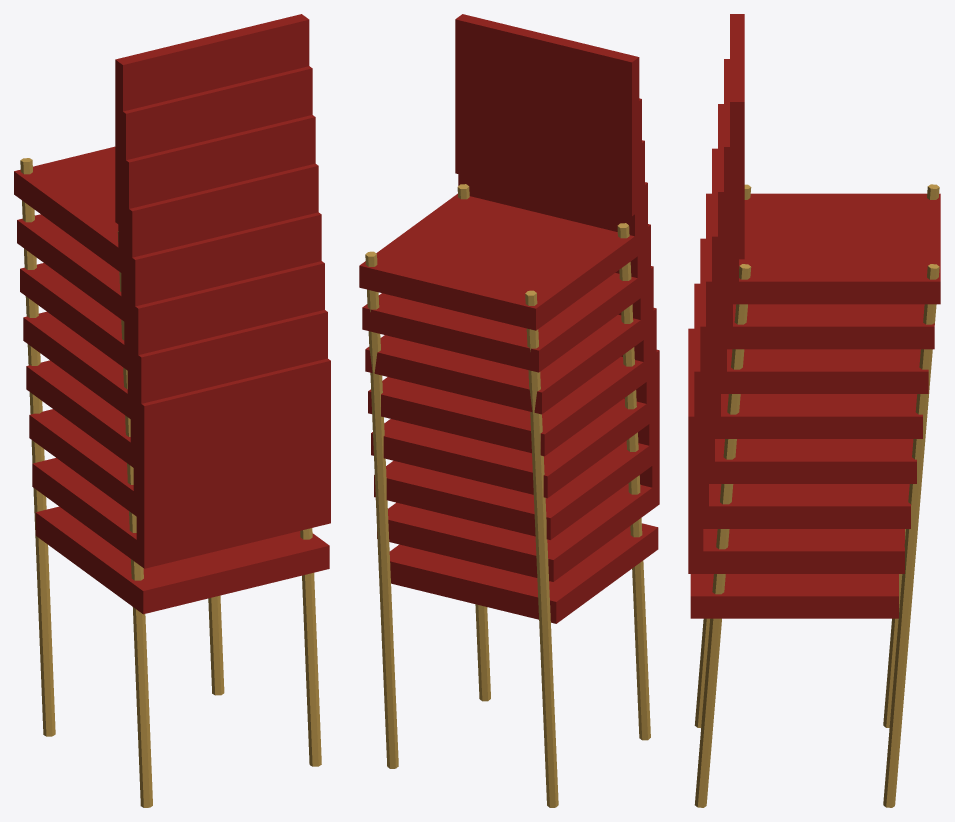
Rendered from hospitality.function.chair_stack.glb.
3 views of the same model, side by side, from view 1: azimuth 30°, elevation 25°; view 2: azimuth 150°, elevation 25°; view 3: azimuth 270°, elevation 25° (orthographic). The views are drawn at different scales.
Visible parts, largest first — view 1: main__fabric_red, main__brass; view 2: main__fabric_red, main__brass; view 3: main__fabric_red, main__brass.
Part boxes in pixels (x1,y1,x2,y2): main__fabric_red: (14,14,330,614); main__brass: (20,158,321,807); main__fabric_red: (359,14,659,623); main__brass: (365,184,650,807); main__fabric_red: (688,14,940,618); main__brass: (694,184,939,807).
Bounding box in the file's own units: 0.42 × 1.58 × 0.509.
